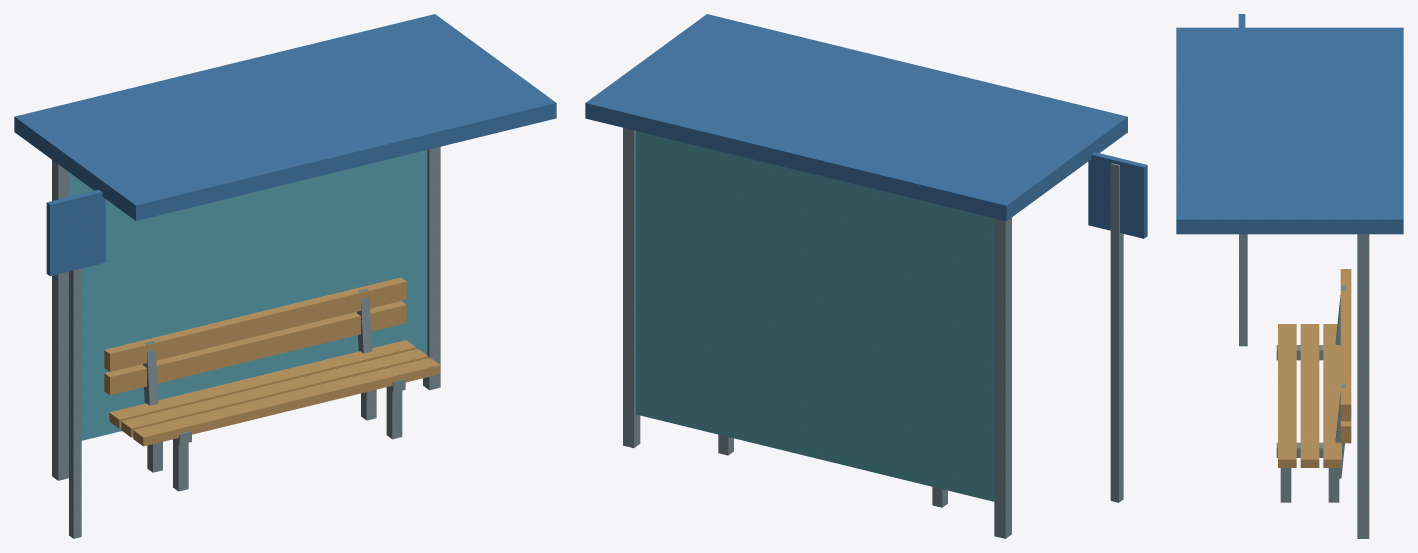
Rendered from low-poly-city-bus-stop.glb.
3 views of the same model, side by side, from view 1: azimuth 30°, elevation 25°; view 2: azimuth 150°, elevation 25°; view 3: azimuth 270°, elevation 25° (orthographic). The views are drawn at different scales.
Visible parts, largest first — view 1: Shelter canopy 003, Back screen 004, Backrest plank 017, Backrest plank 016, Seat plank 005, Unlettered stop sign 019, Shelter column 001, Seat plank 006, Seat plank 007, Stop sign post 018, Shelter column 002, Bench leg 013 (+3 smaller); view 2: Back screen 004, Shelter canopy 003, Shelter column 001, Stop sign post 018, Shelter column 002, Unlettered stop sign 019; view 3: Shelter canopy 003, Shelter column 002, Seat plank 006, Seat plank 005, Seat plank 007, Backrest plank 017, Stop sign post 018, Bench leg 013, Bench leg 014.
Part boxes in pixels (x1=…): Shelter canopy 003: x1=14, y1=14, x2=556, y2=220; Back screen 004: x1=69, y1=150, x2=427, y2=440; Backrest plank 017: x1=104, y1=277, x2=406, y2=371; Backrest plank 016: x1=104, y1=301, x2=406, y2=395; Seat plank 005: x1=133, y1=357, x2=440, y2=446; Unlettered stop sign 019: x1=46, y1=189, x2=105, y2=276; Shelter column 001: x1=52, y1=160, x2=69, y2=480; Seat plank 006: x1=121, y1=349, x2=428, y2=437; Seat plank 007: x1=109, y1=340, x2=415, y2=428; Stop sign post 018: x1=69, y1=268, x2=81, y2=538; Shelter column 002: x1=423, y1=146, x2=440, y2=390; Bench leg 013: x1=386, y1=388, x2=402, y2=439; Back screen 004: x1=636, y1=131, x2=994, y2=501; Shelter canopy 003: x1=585, y1=14, x2=1127, y2=221; Shelter column 001: x1=994, y1=217, x2=1011, y2=538; Stop sign post 018: x1=1110, y1=163, x2=1123, y2=502; Shelter column 002: x1=623, y1=127, x2=640, y2=448; Unlettered stop sign 019: x1=1088, y1=152, x2=1147, y2=238; Shelter canopy 003: x1=1176, y1=27, x2=1403, y2=234; Shelter column 002: x1=1357, y1=234, x2=1369, y2=538; Seat plank 006: x1=1300, y1=324, x2=1319, y2=467; Seat plank 005: x1=1278, y1=324, x2=1296, y2=467; Seat plank 007: x1=1323, y1=324, x2=1341, y2=467; Backrest plank 017: x1=1340, y1=269, x2=1351, y2=421; Stop sign post 018: x1=1239, y1=234, x2=1247, y2=346; Bench leg 013: x1=1280, y1=468, x2=1291, y2=502; Bench leg 014: x1=1328, y1=468, x2=1339, y2=502.
Size of the model in its own units: 3.83 by 2.71 by 1.7.
4 materials, 4 textured.
